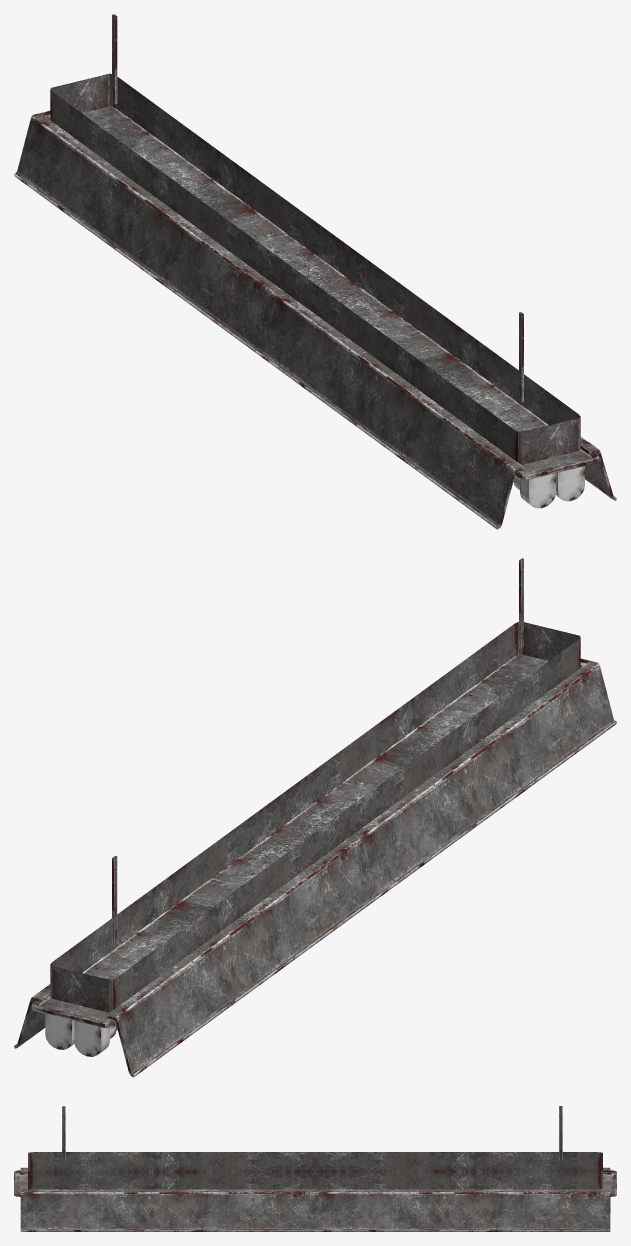
File: L2-2_lamp35.001.fbx
3 views of the same model, one above another, from view 1: azimuth 30°, elevation 25°; view 2: azimuth 150°, elevation 25°; view 3: azimuth 270°, elevation 25° (orthographic). The views are drawn at different scales.
Parts seen in each view (by area): view 1: L2_2_lamp35_001; view 2: L2_2_lamp35_001; view 3: L2_2_lamp35_001.
Part boxes in pixels (<box>): L2_2_lamp35_001: <box>14,14,616,529</box>; L2_2_lamp35_001: <box>14,558,616,1077</box>; L2_2_lamp35_001: <box>14,1106,616,1231</box>.
Bounding box in the file's own units: 82.88 × 116 × 589.
